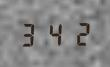four: (43, 20, 66, 46)
three: (18, 20, 41, 47)
two: (67, 19, 90, 46)
